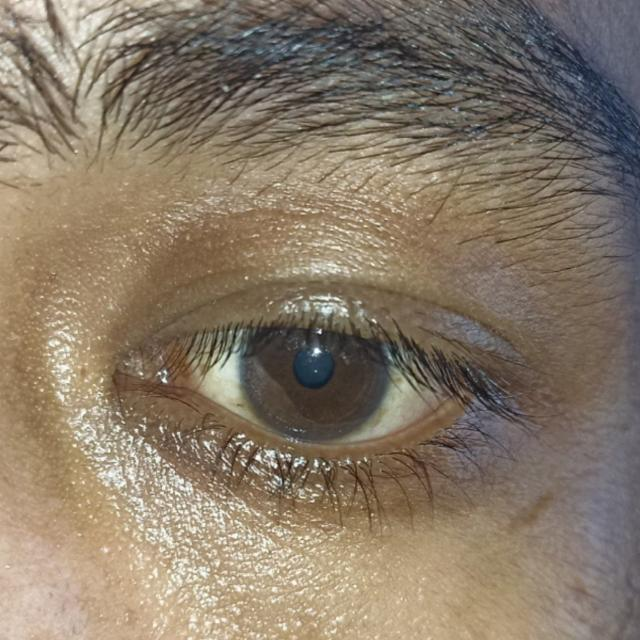Normal: (243, 298, 389, 448)
